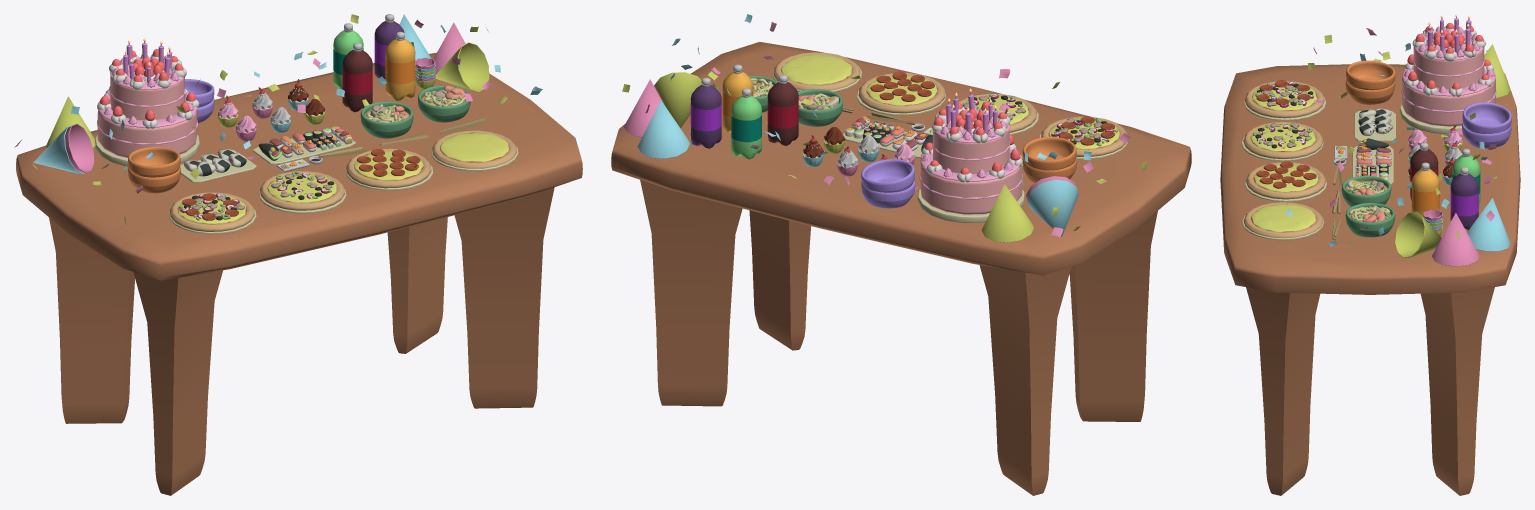
The model's file is stylized_birthday_buffet_-_final_major_project.glb.
3 renders of one model, left to right at view 1: azimuth 30°, elevation 25°; view 2: azimuth 150°, elevation 25°; view 3: azimuth 270°, elevation 25°, orthographic. The views are drawn at different scales.
Visible parts, largest first — view 1: polySurface2288, polySurface2286, polySurface2491, polySurface845, polySurface2475, polySurface808, polySurface2440, polySurface2036, polySurface2040, pCone2, polySurface709, polySurface1832 (+10 smaller); view 2: polySurface2288, polySurface2286, polySurface845, polySurface808, polySurface2475, polySurface2030, polySurface2040, polySurface2034, pCone4, pCone9, polySurface2493, polySurface2440 (+9 smaller); view 3: polySurface2288, polySurface2286, polySurface845, polySurface2491, polySurface2475, polySurface808, pCone2, polySurface2440, pCone3, polySurface1832, polySurface2030, pCone4 (+13 smaller).
Boxes of the visible parts, x1=… form: polySurface2288: x1=16, y1=52, x2=582, y2=495; polySurface2286: x1=97, y1=37, x2=199, y2=157; polySurface2491: x1=260, y1=171, x2=344, y2=210; polySurface845: x1=346, y1=148, x2=431, y2=188; polySurface2475: x1=170, y1=192, x2=254, y2=231; polySurface808: x1=432, y1=130, x2=516, y2=168; polySurface2440: x1=252, y1=126, x2=355, y2=164; polySurface2036: x1=385, y1=31, x2=415, y2=100; polySurface2040: x1=342, y1=43, x2=372, y2=112; pCone2: x1=435, y1=42, x2=489, y2=92; polySurface709: x1=360, y1=101, x2=413, y2=138; polySurface1832: x1=418, y1=85, x2=470, y2=122; polySurface2288: x1=611, y1=42, x2=1191, y2=495; polySurface2286: x1=919, y1=88, x2=1022, y2=214; polySurface845: x1=858, y1=71, x2=945, y2=113; polySurface808: x1=773, y1=52, x2=860, y2=90; polySurface2475: x1=1041, y1=116, x2=1127, y2=156; polySurface2030: x1=690, y1=77, x2=721, y2=148; polySurface2040: x1=767, y1=75, x2=798, y2=145; polySurface2034: x1=731, y1=88, x2=761, y2=159; pCone4: x1=637, y1=100, x2=689, y2=158; pCone9: x1=981, y1=184, x2=1033, y2=242; polySurface2493: x1=1027, y1=179, x2=1078, y2=236; polySurface2440: x1=843, y1=116, x2=932, y2=158; polySurface2288: x1=1220, y1=64, x2=1520, y2=495; polySurface2286: x1=1401, y1=14, x2=1496, y2=126; polySurface845: x1=1246, y1=161, x2=1325, y2=199; polySurface2491: x1=1243, y1=122, x2=1323, y2=159; polySurface2475: x1=1244, y1=80, x2=1324, y2=118; polySurface808: x1=1243, y1=202, x2=1323, y2=238; pCone2: x1=1395, y1=211, x2=1441, y2=258; polySurface2440: x1=1352, y1=138, x2=1393, y2=184; pCone3: x1=1432, y1=213, x2=1479, y2=266; polySurface1832: x1=1345, y1=203, x2=1395, y2=237; polySurface2030: x1=1450, y1=167, x2=1478, y2=230; pCone4: x1=1467, y1=198, x2=1510, y2=251.
Size of the model in its own units: 0.642 by 0.4826 by 0.3825.
